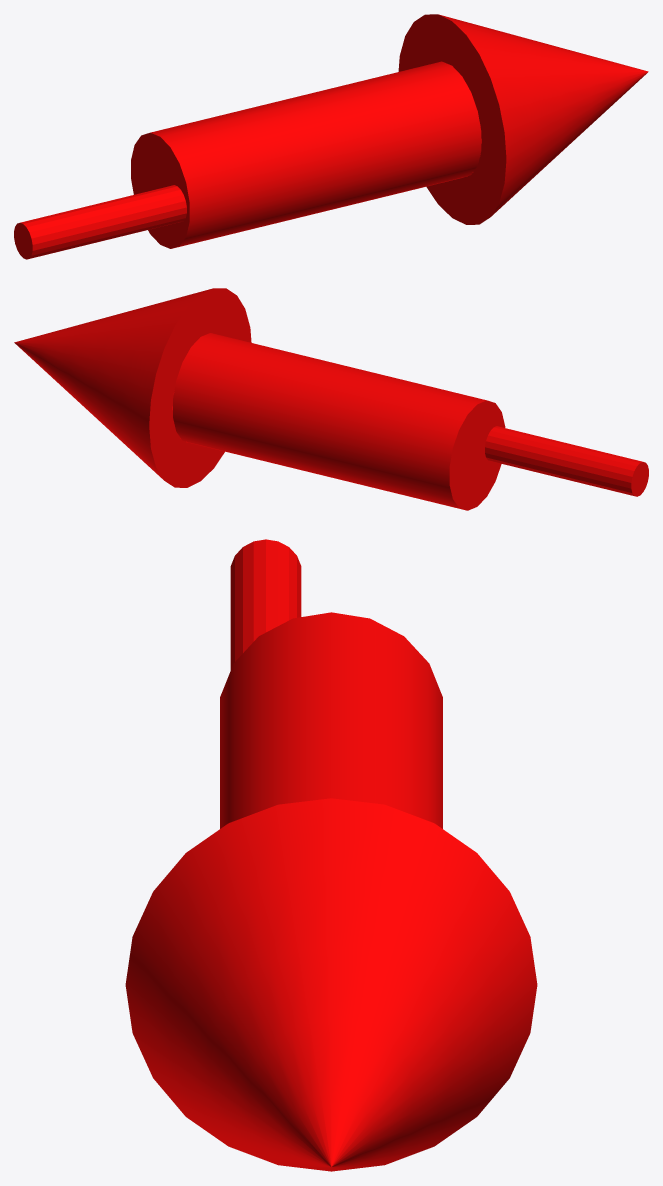
The model's file is firework_obj (1) 1.FBX.
3 views of the same model, one above another, from view 1: azimuth 30°, elevation 25°; view 2: azimuth 150°, elevation 25°; view 3: azimuth 270°, elevation 25° (orthographic). The views are drawn at different scales.
Parts seen in each view (by area): view 1: Cone001; view 2: Cone001; view 3: Cone001.
Part boxes in pixels (x1,y1,x2,y2): Cone001: [14, 14, 648, 259]; Cone001: [14, 288, 648, 510]; Cone001: [125, 539, 537, 1171].
Size of the model in its own units: 11.75 by 3.44 by 3.44.
